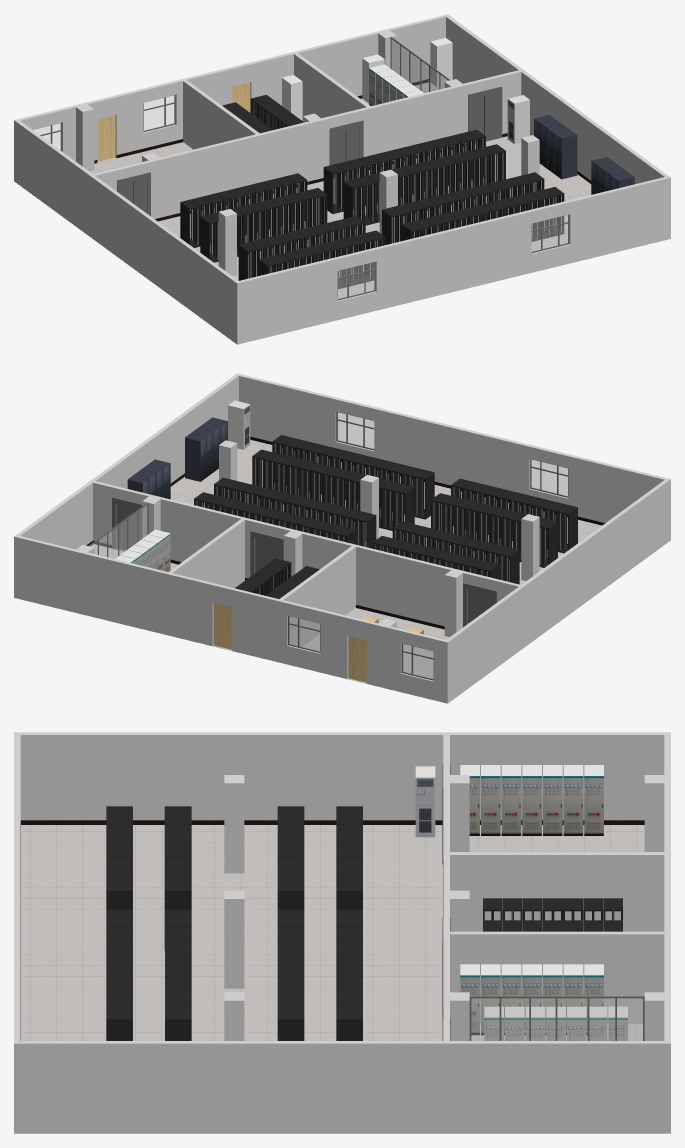
Rendered from JiFang.gltf.
3 renders of one model, top to bottom at view 1: azimuth 30°, elevation 25°; view 2: azimuth 150°, elevation 25°; view 3: azimuth 270°, elevation 25°, orthographic. The views are drawn at different scales.
Visible parts, largest first — view 1: Wall, floor, Window, Obj3d66-848518-126-826, Box006, Box007, Door, Object004, Obj3d66-848518-3227-681, Obj3d66-848518-3249-599, Box008, JiGui046 (+12 smaller); view 2: Wall, floor, Window, Door, Obj3d66-848518-126-826, Box006, Box007, Obj3d66-848518-3322-649, Obj3d66-848518-3227-680, Box008, JiGui021, JiGui007 (+9 smaller); view 3: Wall, floor, Obj3d66-848518-126-826, Obj3d66-848518-3397-100, Obj3d66-848518-3235-26, Object010, Object013, Object009, Object011, Object012, Object014, Object021 (+22 smaller).
Boxes of the visible parts, box(x1,y1,x2,y2) form: Wall: box(14, 14, 670, 344); floor: box(14, 82, 670, 344); Window: box(32, 95, 569, 300); Obj3d66-848518-126-826: box(390, 37, 450, 92); Box006: box(468, 86, 502, 144); Box007: box(329, 120, 363, 178); Door: box(97, 82, 250, 161); Object004: box(555, 130, 577, 179); Obj3d66-848518-3227-681: box(507, 95, 529, 144); Obj3d66-848518-3249-599: box(430, 38, 452, 86); Box008: box(117, 172, 150, 216); JiGui046: box(323, 164, 344, 213); Wall: box(14, 373, 670, 703); floor: box(14, 440, 670, 703); Window: box(288, 411, 568, 680); Door: box(213, 603, 366, 682); Obj3d66-848518-126-826: box(88, 502, 148, 558); Box006: box(112, 497, 142, 551); Box007: box(250, 531, 283, 576); Obj3d66-848518-3322-649: box(185, 432, 207, 481); Obj3d66-848518-3227-680: box(228, 400, 250, 449); Box008: box(463, 583, 496, 627); JiGui021: box(414, 469, 434, 519); JiGui007: box(557, 504, 577, 553); Wall: box(14, 732, 670, 1133); floor: box(14, 825, 670, 1133); Obj3d66-848518-126-826: box(469, 996, 644, 1040); Obj3d66-848518-3397-100: box(20, 820, 644, 1040); Obj3d66-848518-3235-26: box(415, 766, 435, 837); Object010: box(563, 765, 583, 835); Object013: box(501, 765, 521, 835); Object009: box(584, 765, 603, 835); Object011: box(543, 765, 562, 835); Object012: box(522, 765, 541, 835); Object014: box(481, 765, 500, 835); Object021: box(460, 964, 479, 1035).
Size of the model in its own units: 22.34 by 3.01 by 19.91.
Materials: 27 (9 with a texture image).
